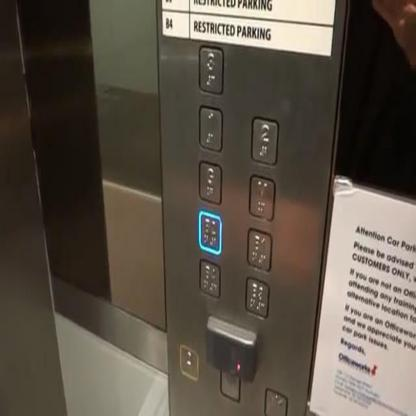1: (198, 103, 223, 152)
2: (250, 115, 279, 166), (179, 341, 198, 382)
3: (197, 43, 223, 96)
G: (198, 159, 222, 206)
M: (248, 173, 276, 221)
blur: (246, 225, 272, 272), (198, 209, 223, 256), (245, 274, 270, 320), (198, 257, 222, 299), (219, 369, 242, 402)
close: (263, 387, 288, 415)
